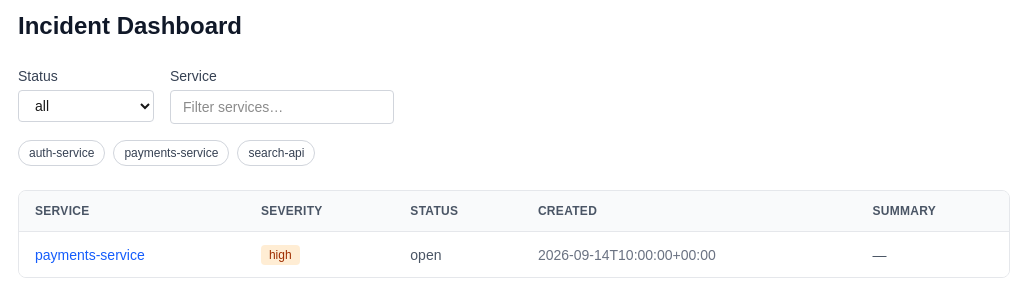
Test: tag toggle and search-box sync › typing after a click clears the previous selection
The width and height of the screenshot is (1027, 295).
Expected: the button "payments-service" is shown, [113,140,229,166]
Click the button "auth-service". click: point(62, 153)
box: [18,140,105,166]
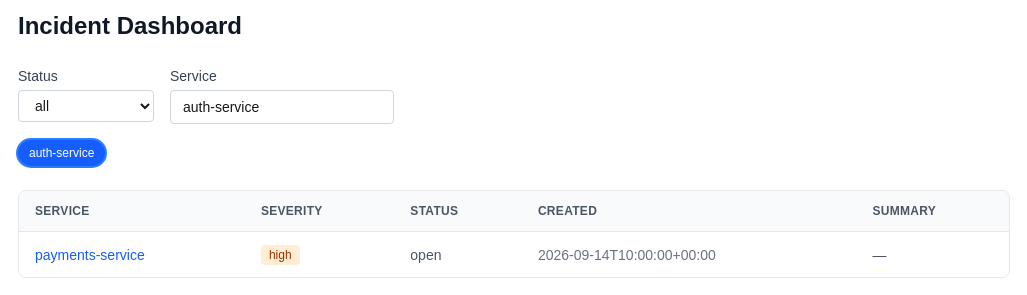
Type "x" into the field labelled "Service". click: point(282, 107)
box: [170,90,394,124]
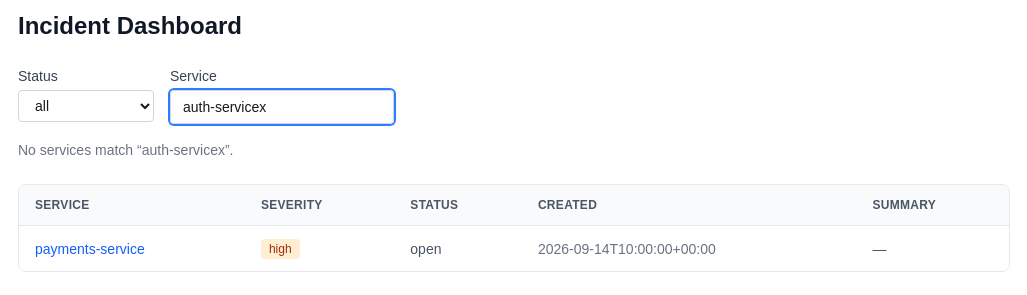
Expected: the field labelled "Service" holds "auth-servicex", [170,90,394,124]
